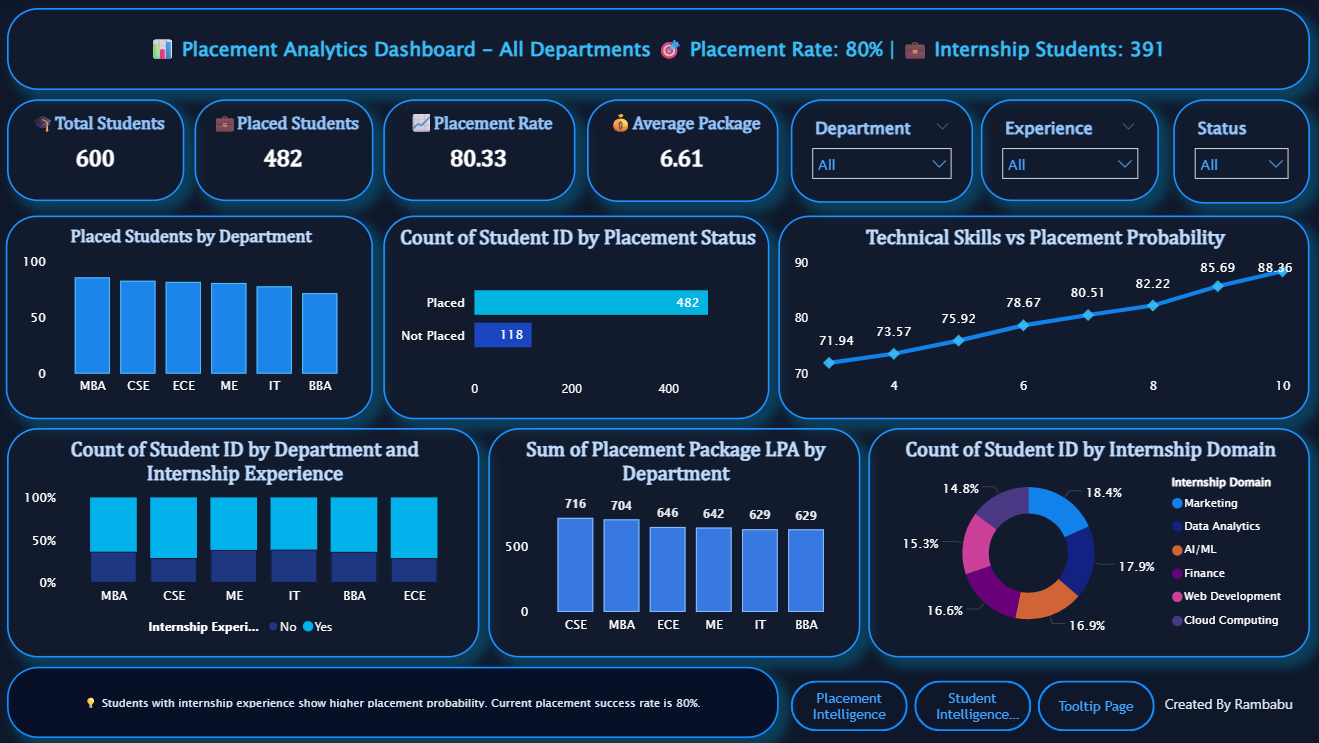

What the dashboard file says about the page in this screenshot:
{"tool":"powerbi","page":{"name":"Executive Dashboard","canvas":[1280,720],"ordinal":0},"visuals":[{"type":"cardVisual","title":"🎓Total Students","fields":{"Data":["student_data.Total Students"]},"box":[9.6,97.4,171.5,98.8],"z":0},{"type":"cardVisual","fields":{"Data":["student_data.Dynamic Title"]},"box":[9.1,9.1,1258,79],"z":1000},{"type":"cardVisual","title":"💼Placed Students","fields":{"Data":["student_data.Placed Students"]},"box":[190.7,97.4,172.9,98.8],"z":2000},{"type":"cardVisual","title":"📈Placement Rate ","fields":{"Data":["student_data.Placement Rate"]},"box":[373.2,97.4,185.2,98.8],"z":3000},{"type":"cardVisual","title":"💰Average Package","fields":{"Data":["student_data.Average Package"]},"box":[569.4,97.7,184.6,98.9],"z":4000},{"type":"slicer","fields":{"Values":["student_data.Department"]},"box":[765.7,97.2,176.2,99.8],"z":5000},{"type":"slicer","fields":{"Values":["student_data.Placement Status"]},"box":[1134.9,97.2,132.1,101.1],"z":6000},{"type":"slicer","fields":{"Values":["student_data.Internship Experience"]},"box":[949.6,97.2,172.3,98.5],"z":7000},{"type":"clusteredColumnChart","fields":{"Category":["student_data.Department"],"Y":["student_data.Placed Students"]},"box":[8.4,209.9,354.7,196.6],"z":8000},{"type":"clusteredBarChart","title":"Placement Status Distribution","fields":{"Category":["student_data.Placement Status"],"Y":["CountNonNull(student_data.Student ID)"]},"box":[372.8,209.9,372.8,196.6],"z":9000},{"type":"clusteredColumnChart","title":"Placement Package by Department","fields":{"Category":["student_data.Department"],"Y":["Sum(student_data.Placement Package LPA)"]},"box":[474.2,414.6,358.9,221.5],"z":10000},{"type":"hundredPercentStackedColumnChart","title":"Internship Experience by Department","fields":{"Category":["student_data.Department"],"Y":["CountNonNull(student_data.Student ID)"],"Series":["student_data.Internship Experience"]},"box":[9.1,414.6,456,221.5],"z":11000},{"type":"lineChart","title":"Technical Skills vs Placement Probability","fields":{"Category":["student_data.Technical Skills Score"],"Y":["Avg(student_data.Placement Chance Percentage)"]},"box":[754,209.9,512.7,196.6],"z":12000},{"type":"donutChart","title":"Internship Domain Distribution","fields":{"Category":["student_data.Internship Domain"],"Y":["CountNonNull(student_data.Student ID)"]},"box":[840.8,414.6,426.2,221.5],"z":13000},{"type":"cardVisual","fields":{"Data":["student_data.Dynamic Insight"]},"box":[9.1,645.2,744.9,68.7],"z":14000},{"type":"pageNavigator","box":[765.7,658.1,352.4,49.2],"z":15000},{"type":"textbox","box":[1121.9,667.2,145.1,40.2],"z":16000}]}

Visuals, with their boxes in screenshot pixels (x1, y1, x2, y2), scaled from the page's 1280x720 canvas onto the 1319x743 screenshot:
"🎓Total Students" cardVisual: <bbox>10, 101, 187, 202</bbox>
cardVisual - student_data.Dynamic Title: <bbox>9, 9, 1306, 91</bbox>
"💼Placed Students" cardVisual: <bbox>197, 101, 375, 202</bbox>
"📈Placement Rate " cardVisual: <bbox>385, 101, 575, 202</bbox>
"💰Average Package" cardVisual: <bbox>587, 101, 777, 203</bbox>
slicer - student_data.Department: <bbox>789, 100, 971, 203</bbox>
slicer - student_data.Placement Status: <bbox>1169, 100, 1306, 205</bbox>
slicer - student_data.Internship Experience: <bbox>979, 100, 1156, 202</bbox>
clusteredColumnChart - student_data.Department x student_data.Placed Students: <bbox>9, 217, 374, 419</bbox>
"Placement Status Distribution" clusteredBarChart: <bbox>384, 217, 768, 419</bbox>
"Placement Package by Department" clusteredColumnChart: <bbox>489, 428, 858, 656</bbox>
"Internship Experience by Department" hundredPercentStackedColumnChart: <bbox>9, 428, 479, 656</bbox>
"Technical Skills vs Placement Probability" lineChart: <bbox>777, 217, 1305, 419</bbox>
"Internship Domain Distribution" donutChart: <bbox>866, 428, 1306, 656</bbox>
cardVisual - student_data.Dynamic Insight: <bbox>9, 666, 777, 737</bbox>
pageNavigator: <bbox>789, 679, 1152, 730</bbox>
textbox: <bbox>1156, 689, 1306, 730</bbox>
